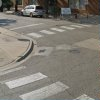crosswalk: (0, 65, 95, 100), (25, 23, 91, 40)
